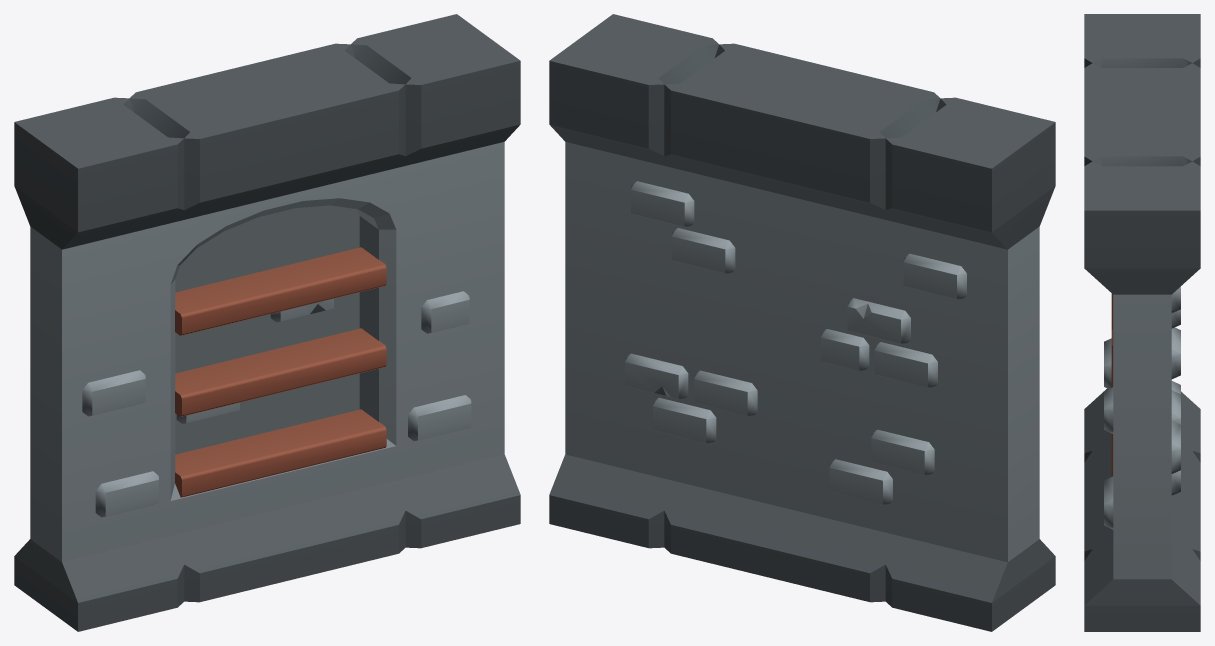
The model's file is wall_alcove_D.glb.
3 views of the same model, side by side, from view 1: azimuth 30°, elevation 25°; view 2: azimuth 150°, elevation 25°; view 3: azimuth 270°, elevation 25° (orthographic). The views are drawn at different scales.
Parts seen in each view (by area): view 1: Item; view 2: Item; view 3: Item.
Part boxes in pixels (box(x1,y1,x2,y2)): Item: box(14, 14, 520, 631); Item: box(549, 14, 1055, 631); Item: box(1084, 14, 1200, 631).
Size of the model in its own units: 4 by 4 by 1.
Materials: 1 (1 with a texture image).
